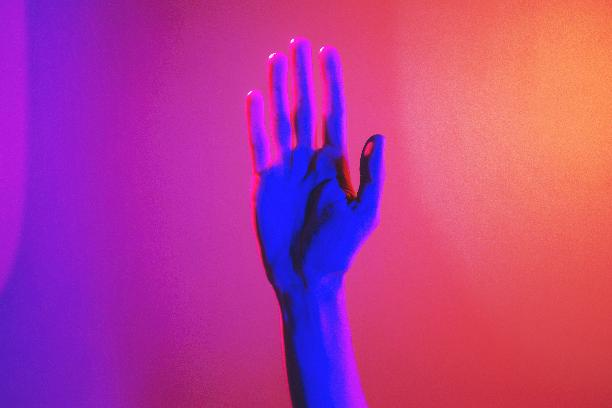Paper: (241, 33, 387, 304)
